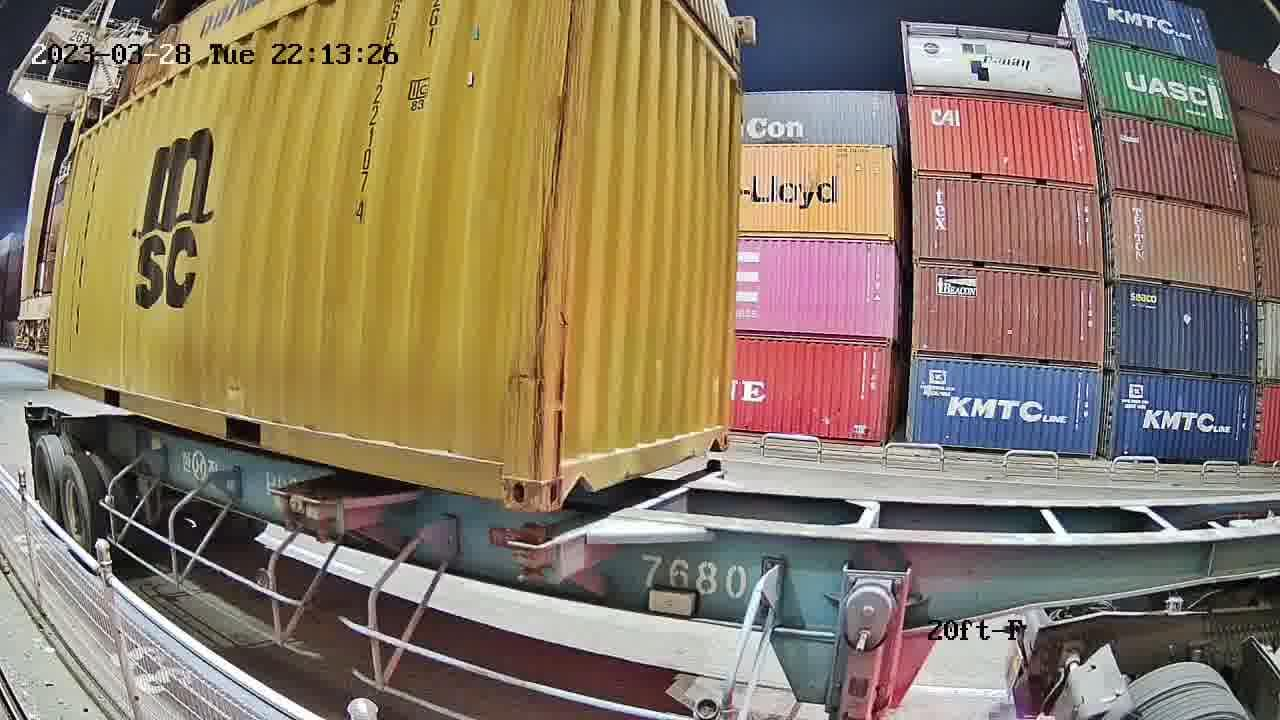Chassis: (510, 468, 725, 578)
Cone: (511, 524, 552, 584), (704, 458, 722, 472)
Hole_L: (536, 431, 596, 514)
Hole_R: (462, 430, 536, 513), (701, 408, 730, 453)
Tire: (58, 459, 93, 564), (33, 438, 58, 525)
